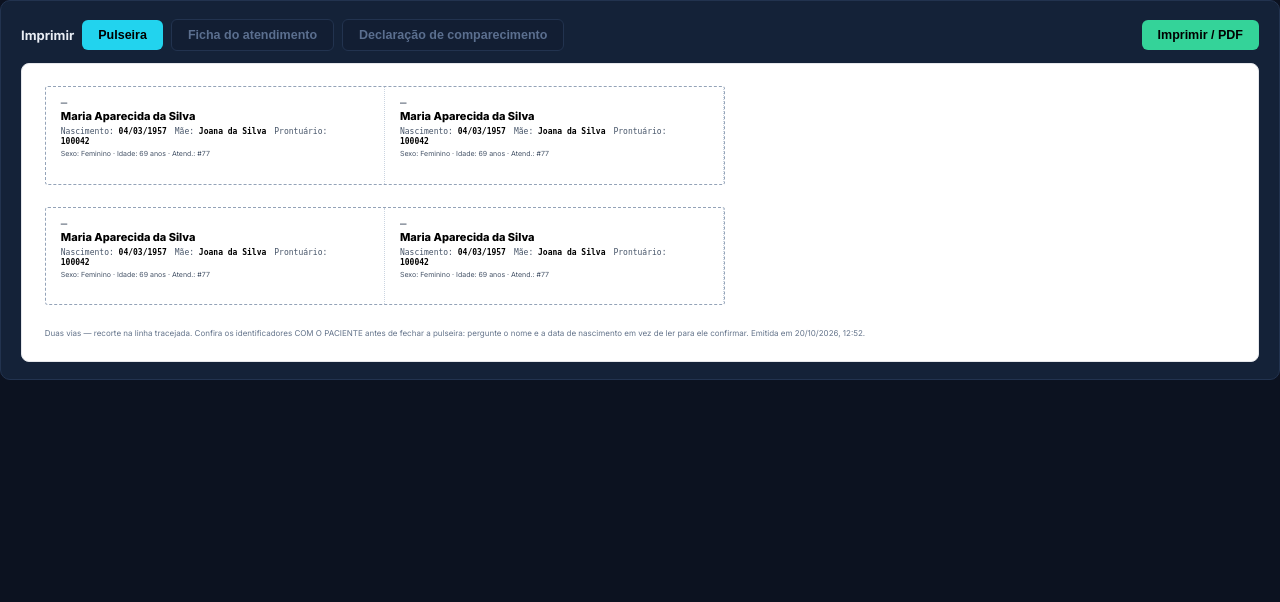
Scenario: a ficha impressa diz quando a lista não pôde ser lida › o aviso sai NO PAPEL, e não só na tela de quem imprimiu
Click the button "Ficha do atendimento" at (252, 35), box top-left (171, 19), bottom-right (334, 51)
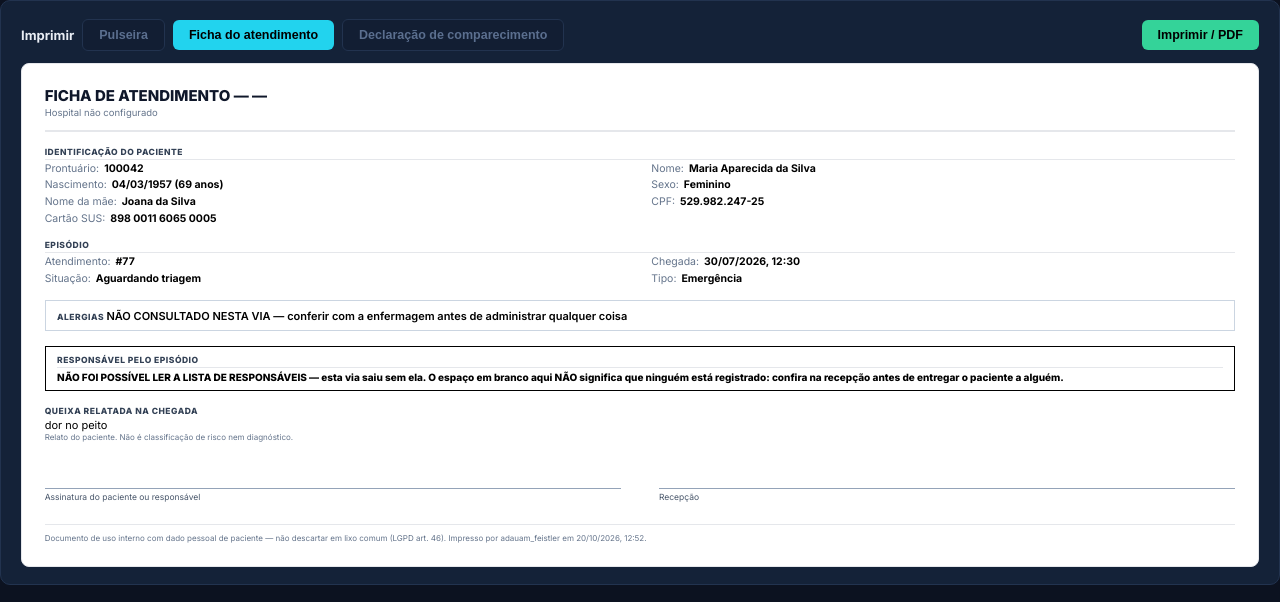
Result: the element with id "impresso-print" shows "NÃO FOI POSSÍVEL LER A LISTA DE RESPONSÁVEIS" at top-left (57, 371), bottom-right (1064, 383)
Result: the element with id "impresso-print" shows "RESPONSÁVEL PELO EPISÓDIO" at top-left (57, 355), bottom-right (199, 365)
